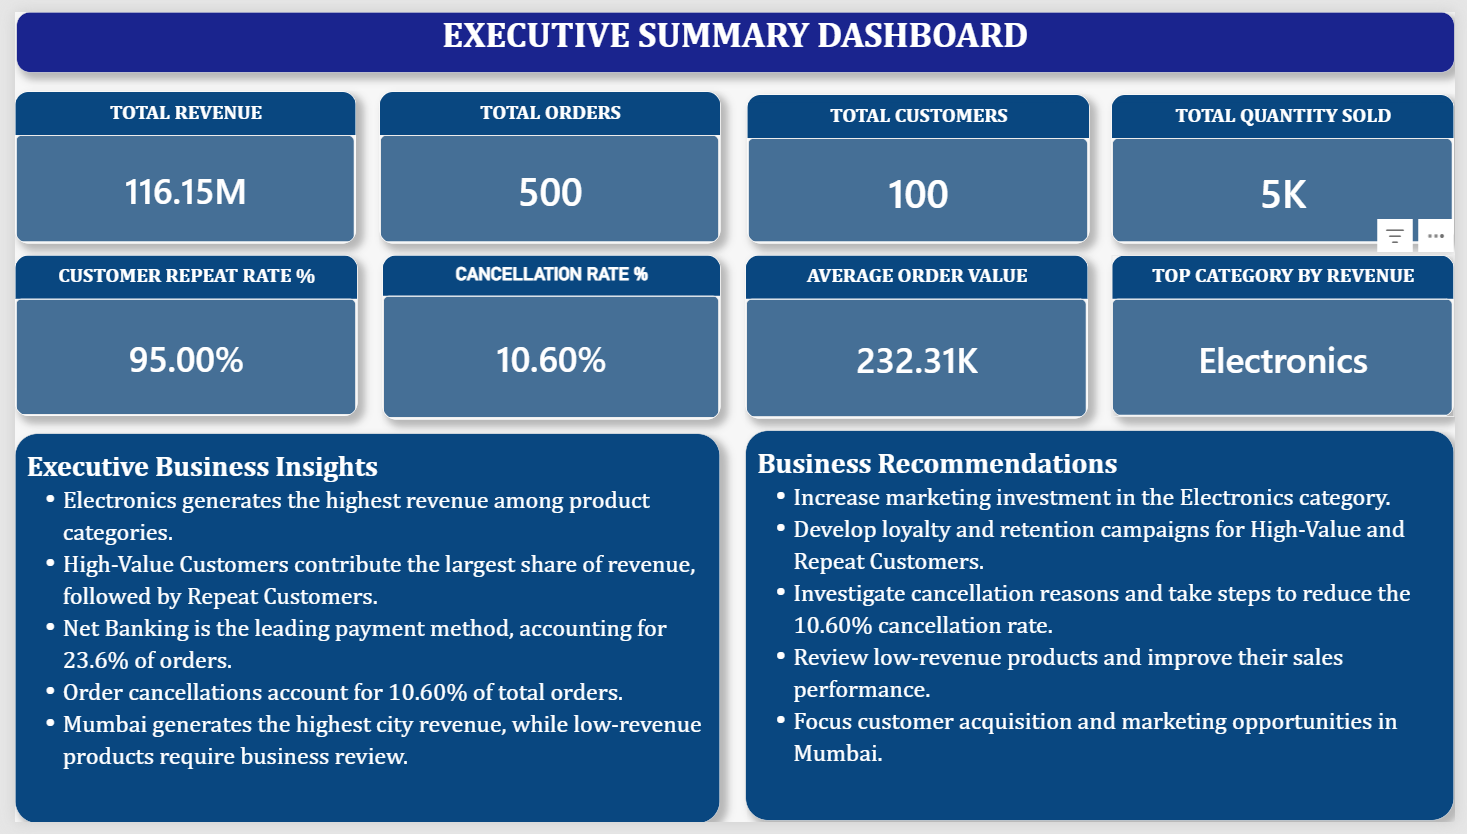

The page's visual inventory and layout, read from the dashboard file:
{"tool":"powerbi","page":{"name":"Executive Summary Dashboard","canvas":[1920,1080],"ordinal":5},"visuals":[{"type":"cardVisual","title":"TOTAL REVENUE","fields":{"Data":["order_items.Total Revenue"]},"box":[0,105.4,454.6,202.5],"z":0},{"type":"cardVisual","title":"TOTAL ORDERS","fields":{"Data":["orders.Total Orders"]},"box":[485.6,105.4,454.6,202.5],"z":1000},{"type":"cardVisual","title":"TOTAL CUSTOMERS","fields":{"Data":["customers.Total Customers"]},"box":[975.3,109.5,456.7,198.4],"z":2000},{"type":"cardVisual","title":"AVERAGE ORDER VALUE","fields":{"Data":["order_items.Average Order Value"]},"box":[974.4,324.8,456.5,218],"z":3000},{"type":"cardVisual","title":"CUSTOMER REPEAT RATE %","fields":{"Data":["customers.Customer Repeat Rate %"]},"box":[0,324.4,456.7,214.9],"z":5000},{"type":"cardVisual","title":"CANCELLATION RATE %","fields":{"Data":["orders.Cancellation Rate %"]},"box":[489.7,324.4,450.5,219],"z":6000},{"type":"cardVisual","title":"TOTAL QUANTITY SOLD","fields":{"Data":["order_items.Total Quantity Sold"]},"box":[1463,109.5,456.7,198.4],"z":7000},{"type":"textbox","box":[0,561,940.3,520.1],"z":8000},{"type":"textbox","box":[974.4,558.7,944.9,520.1],"z":9000},{"type":"cardVisual","title":"TOP CATEGORY BY REVENUE","fields":{"Data":["order_items.Top Category by Revenue"]},"box":[1462.7,324.8,456.5,215.8],"z":10000},{"type":"textbox","box":[2.1,0,1917.6,80.6],"z":11000}]}

Visuals, with their boxes in screenshot pixels (x1, y1, x2, y2), scaled from the page's 1920x1080 canvas onto the 1467x834 screenshot:
"TOTAL REVENUE" cardVisual: [left=0, top=81, right=347, bottom=238]
"TOTAL ORDERS" cardVisual: [left=371, top=81, right=718, bottom=238]
"TOTAL CUSTOMERS" cardVisual: [left=745, top=85, right=1094, bottom=238]
"AVERAGE ORDER VALUE" cardVisual: [left=745, top=251, right=1093, bottom=419]
"CUSTOMER REPEAT RATE %" cardVisual: [left=0, top=251, right=349, bottom=416]
"CANCELLATION RATE %" cardVisual: [left=374, top=251, right=718, bottom=420]
"TOTAL QUANTITY SOLD" cardVisual: [left=1118, top=85, right=1466, bottom=238]
textbox: [left=0, top=433, right=718, bottom=833]
textbox: [left=745, top=431, right=1466, bottom=833]
"TOP CATEGORY BY REVENUE" cardVisual: [left=1118, top=251, right=1466, bottom=417]
textbox: [left=2, top=0, right=1466, bottom=62]
